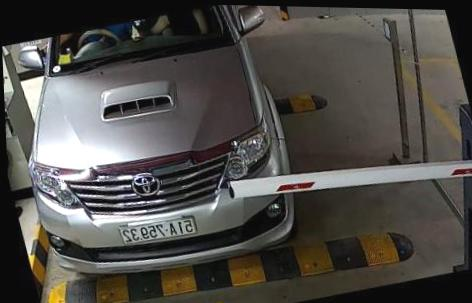License_Plate: (114, 211, 197, 256)
